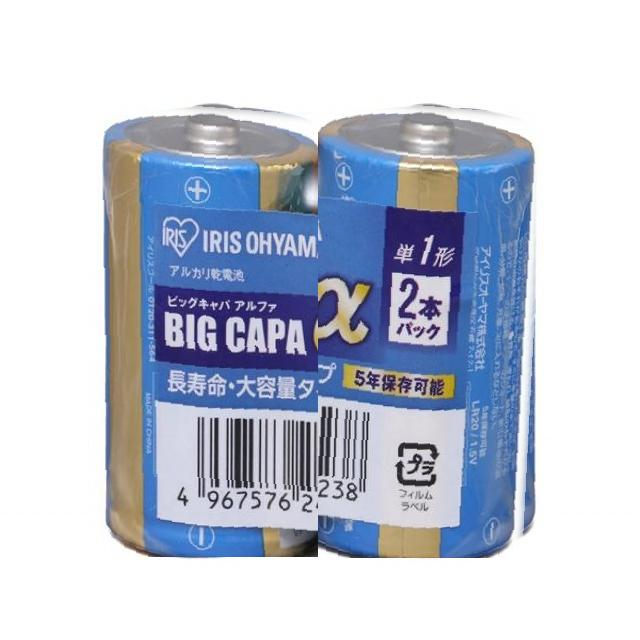battery: (86, 97, 325, 557), (318, 97, 545, 558)
